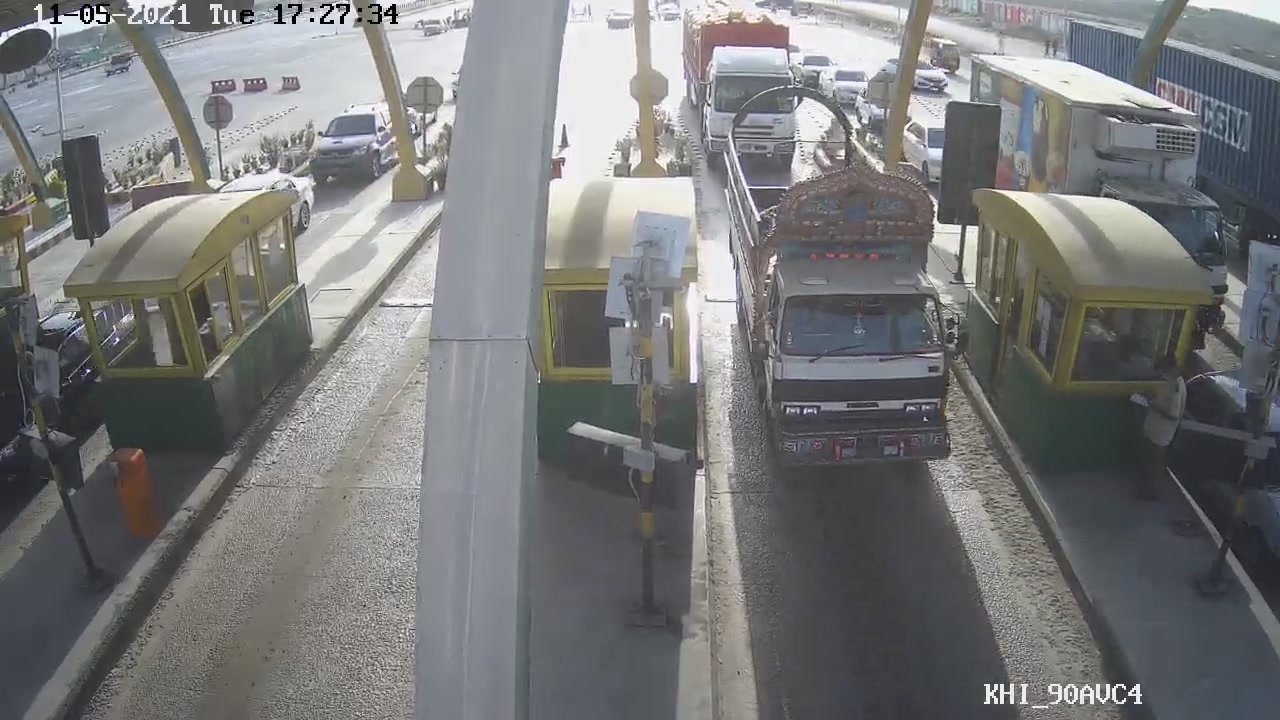F5: (703, 91, 956, 468)
